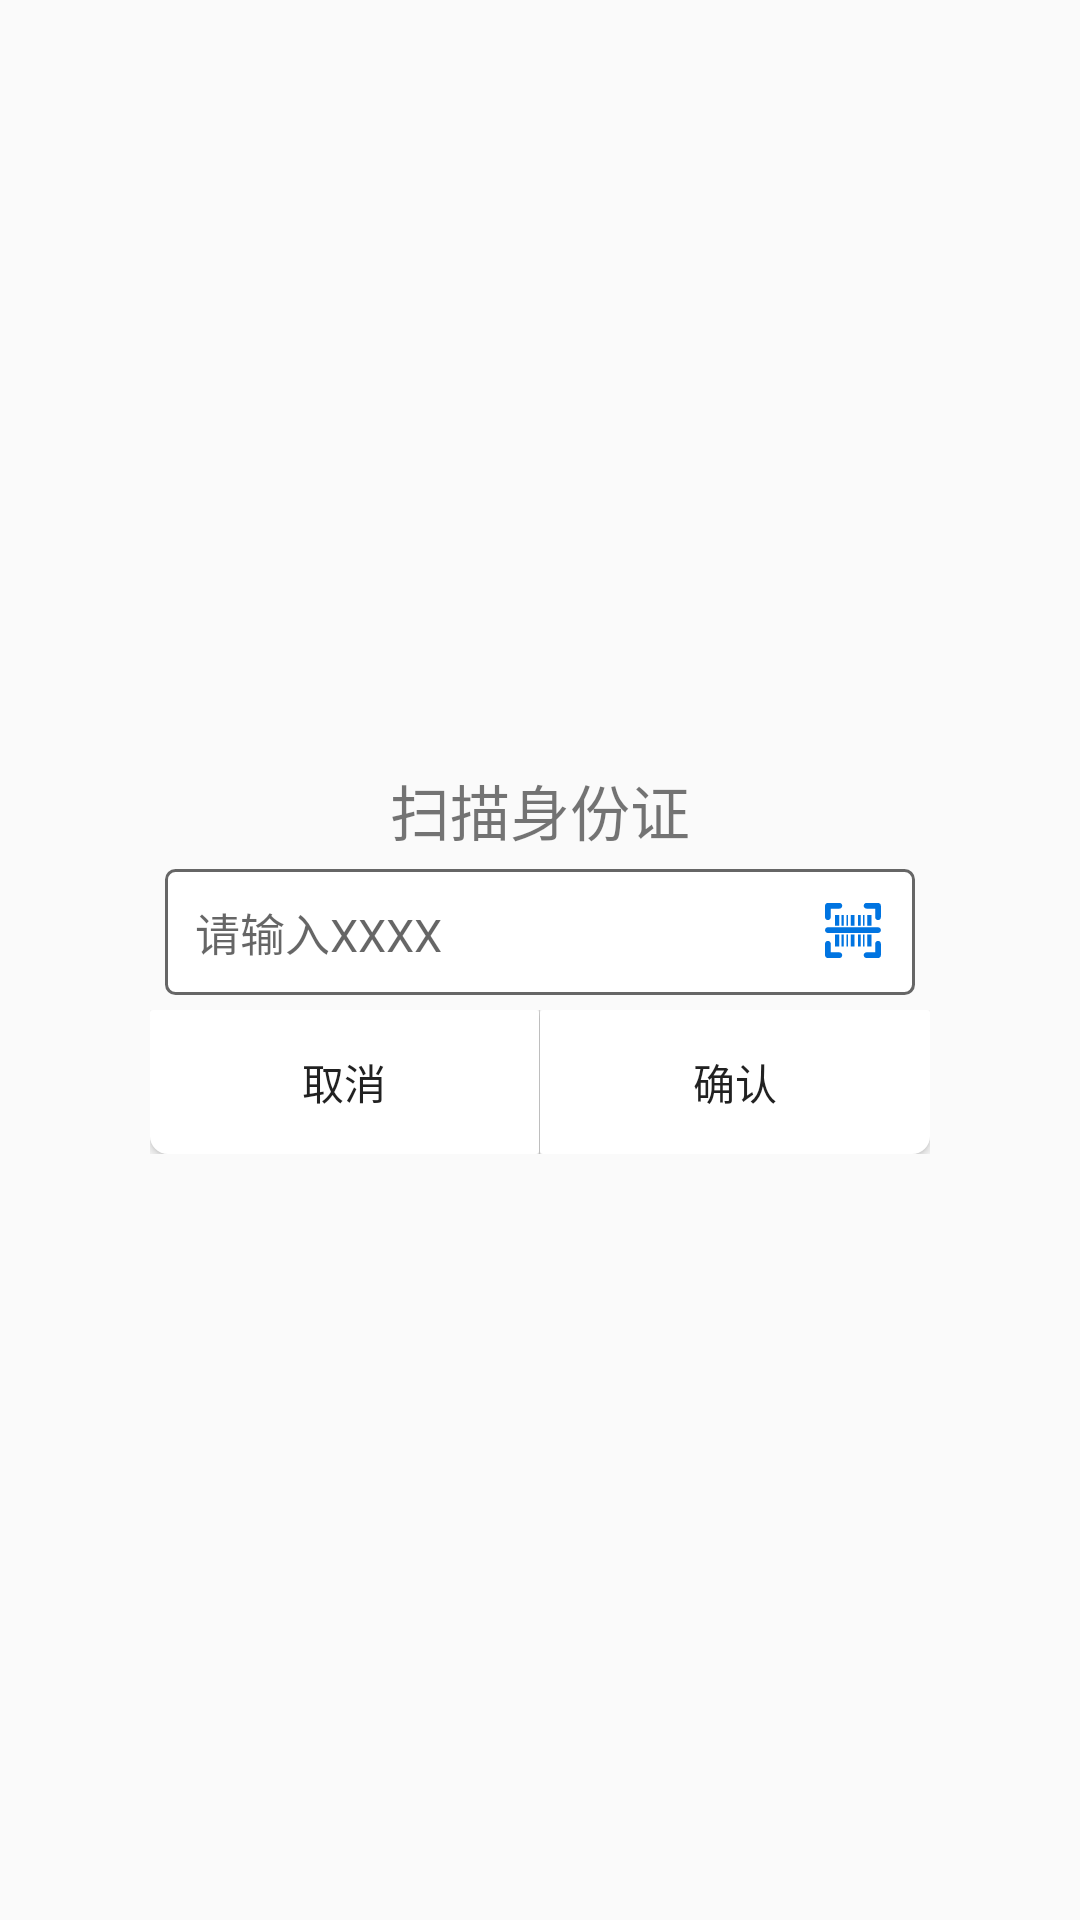

Screen size 1080x1920. Icon name, then its center in pixels as point (x, y):
scan: point (853, 930)
